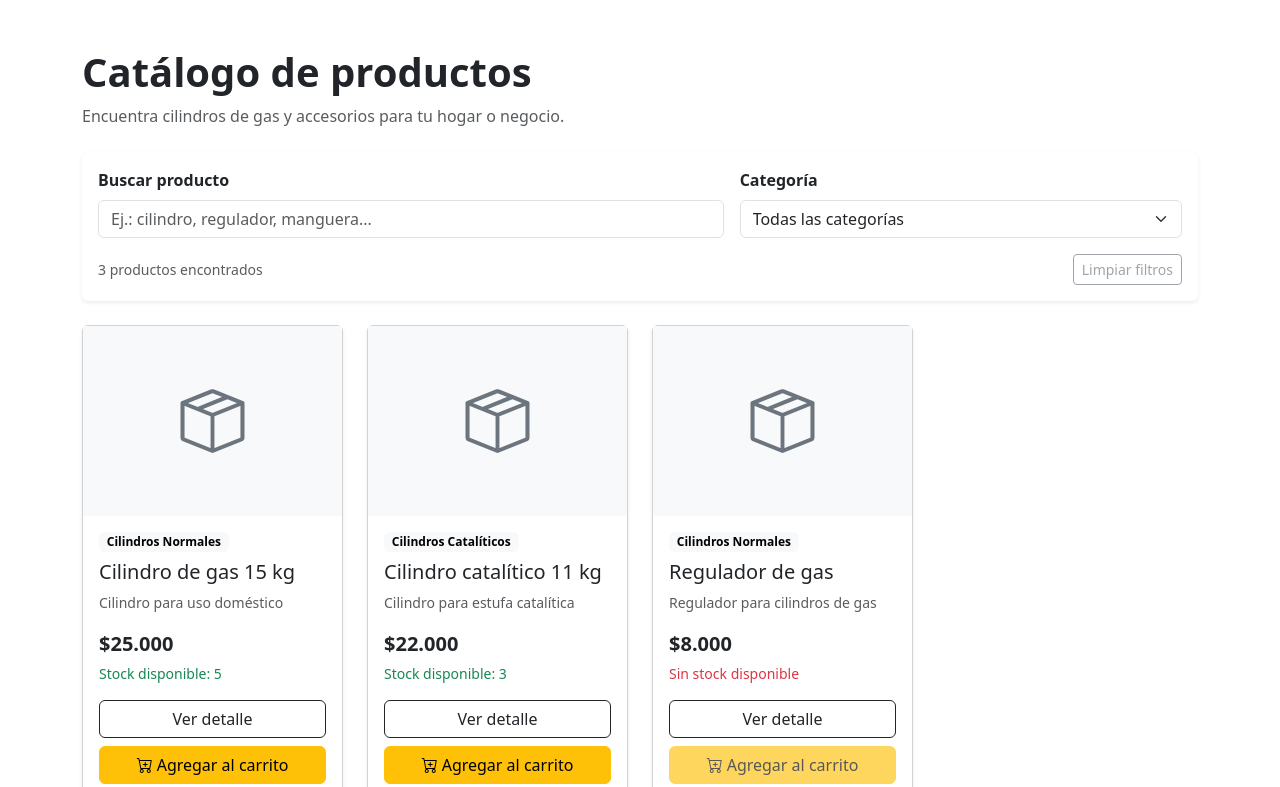
Test: Products › restablece la búsqueda y la categoría al limpiar los filtros
Select "Cilindros Catalíticos" in the dropdown labelled "Categoría" at {"x": 961, "y": 219}, box [740,200,1182,238]
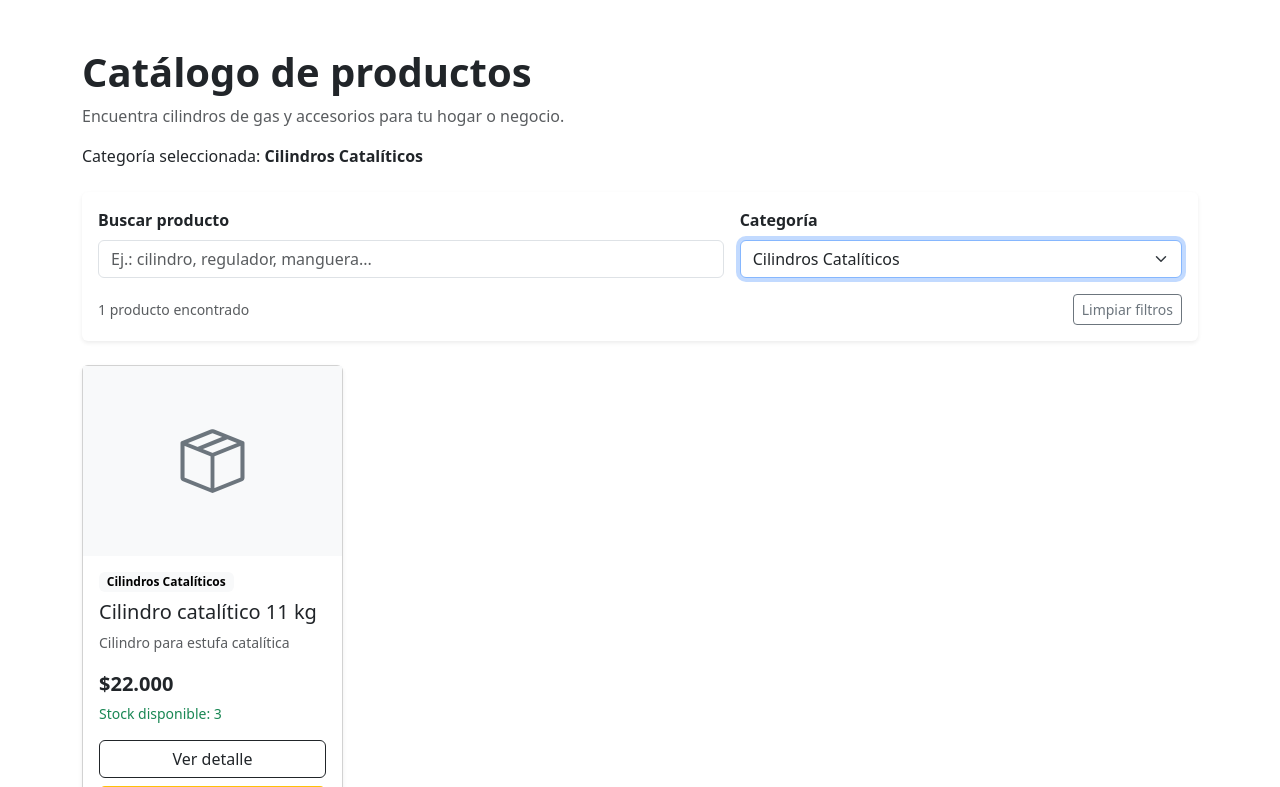
Type "catalítico" into the search field labelled "Buscar producto" at {"x": 411, "y": 259}, box [98,240,724,278]
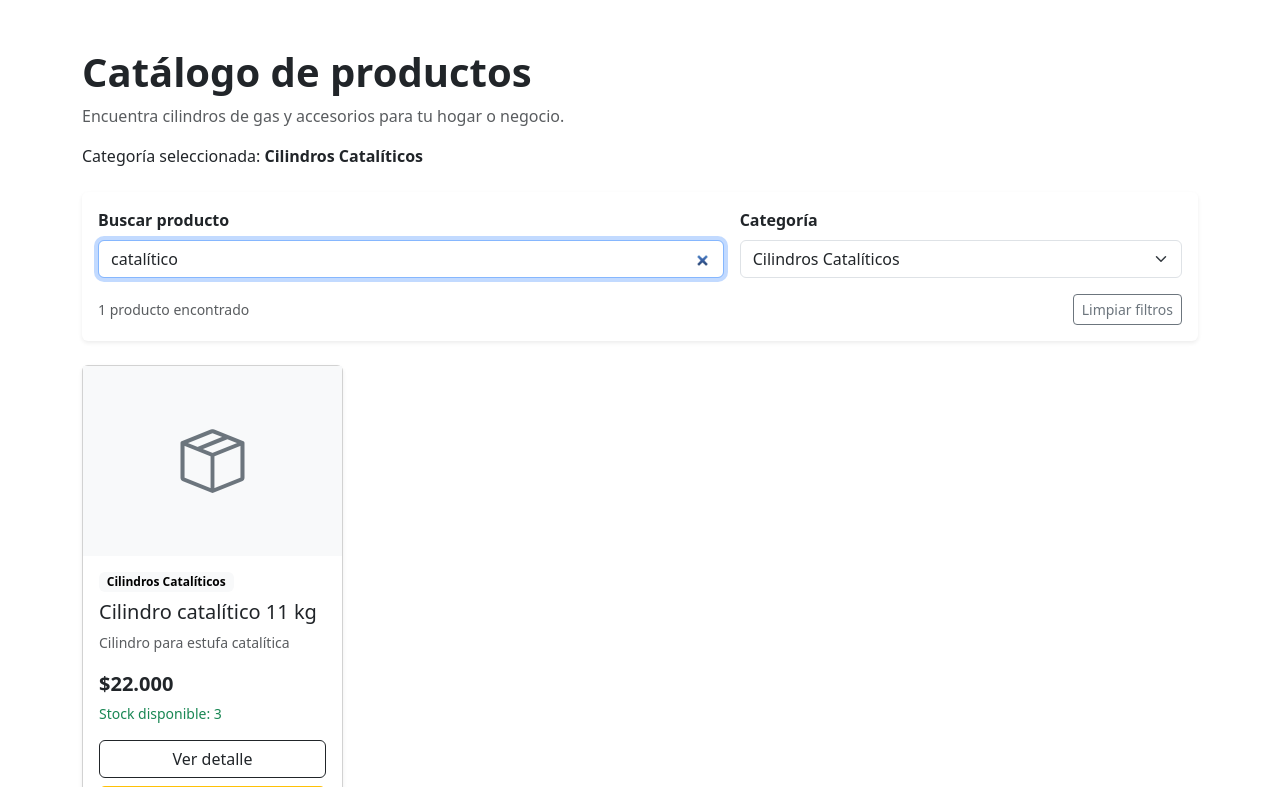
Click the button "Limpiar filtros" at {"x": 1127, "y": 310}, box [1073,294,1182,325]
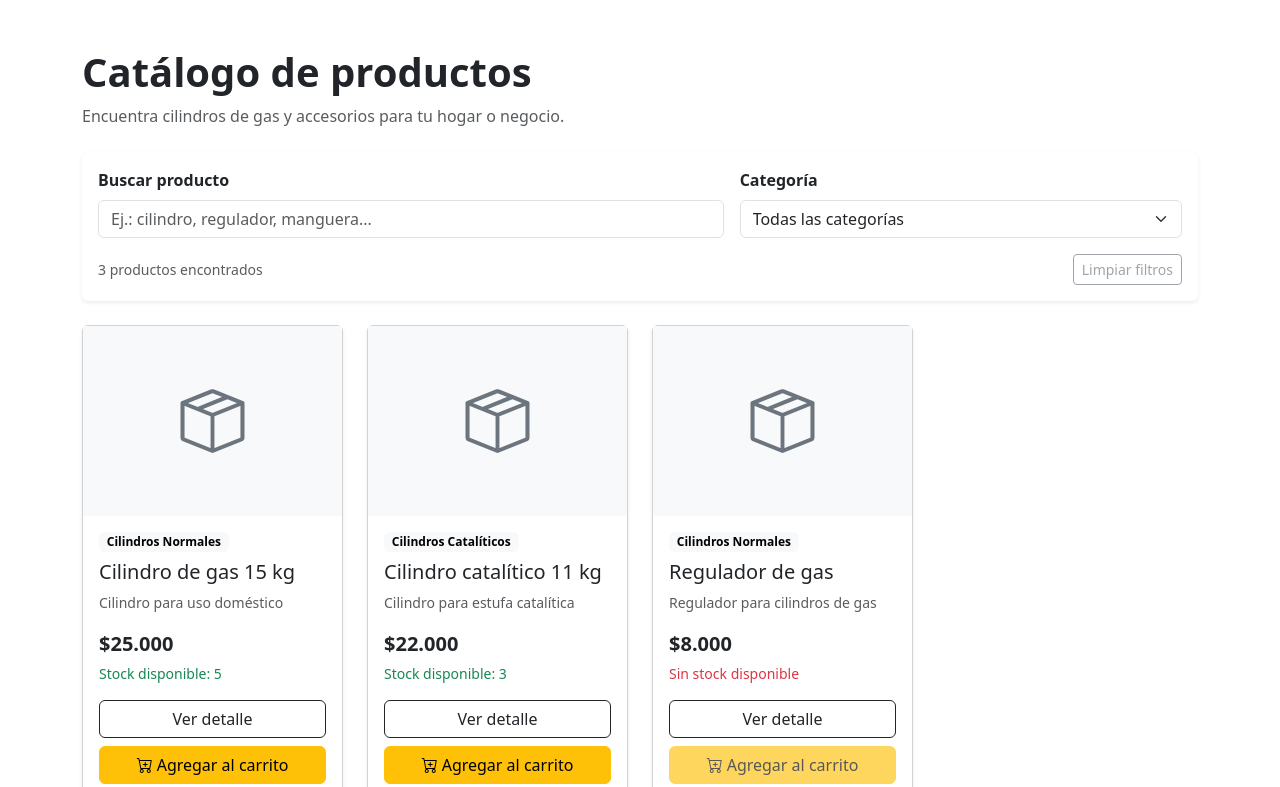
Now the search field labelled "Buscar producto" is empty, box [98,200,724,238]
Now the text "3 productos encontrados" is shown, box [98,259,263,280]
